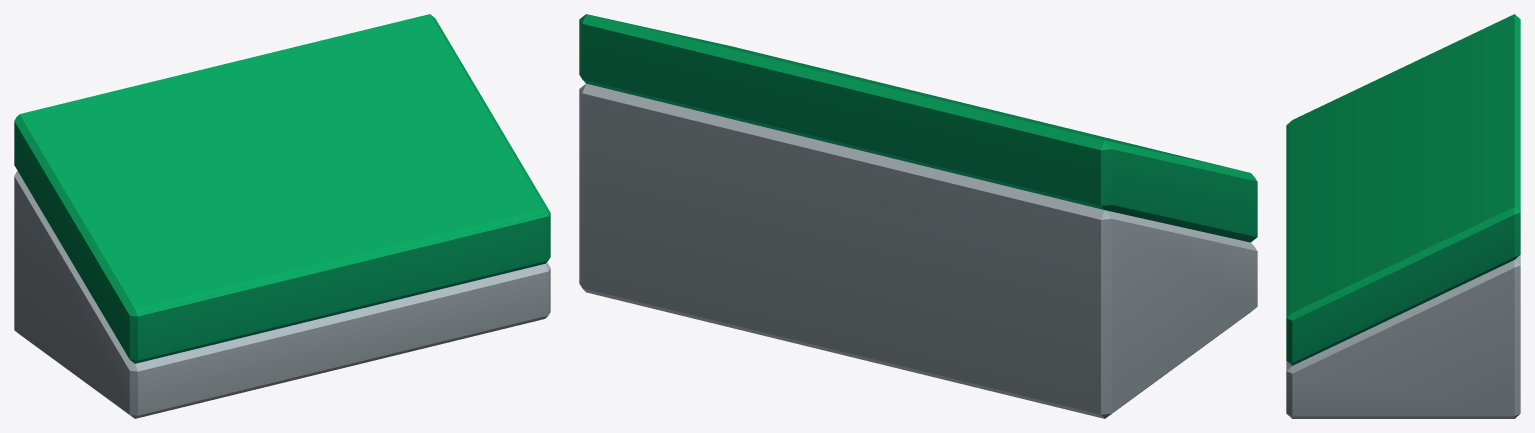
File: platform_slope_4x2x2_green.glb
3 renders of one model, left to right at view 1: azimuth 30°, elevation 25°; view 2: azimuth 150°, elevation 25°; view 3: azimuth 270°, elevation 25°, orthographic. The views are drawn at different scales.
Parts seen in each view (by area): view 1: platform_slope_4x2x2_green; view 2: platform_slope_4x2x2_green; view 3: platform_slope_4x2x2_green.
Boxes of the visible parts, box(x1,y1,x2,y2) form: platform_slope_4x2x2_green: box(14, 14, 550, 418); platform_slope_4x2x2_green: box(579, 14, 1257, 418); platform_slope_4x2x2_green: box(1286, 14, 1520, 418).
Bounding box in the file's own units: 4 × 2 × 2.
1 material, 1 textured.
